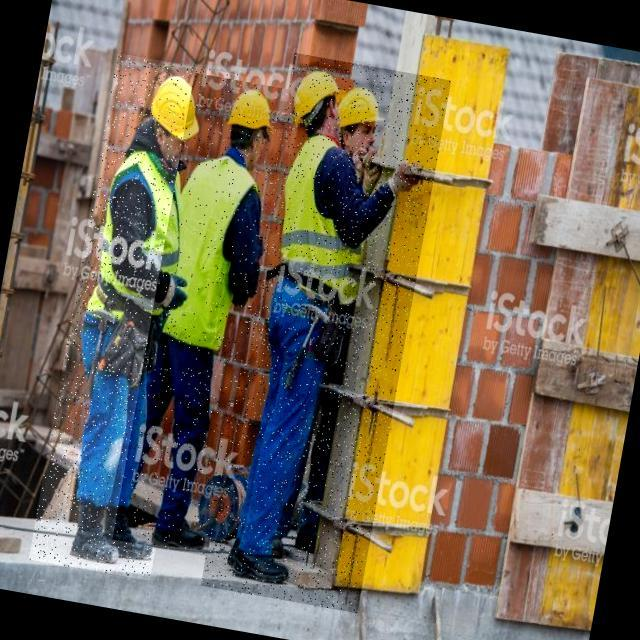Gloves: (153, 269, 194, 318), (387, 163, 429, 201), (354, 155, 385, 197)
Helmet: (147, 73, 212, 146), (292, 66, 343, 129), (228, 90, 283, 146), (337, 84, 390, 137)
Person: (223, 70, 435, 581), (61, 66, 205, 583)
Safety Boot: (69, 500, 127, 564), (102, 508, 159, 565), (225, 541, 294, 586), (155, 507, 215, 554)
Safety Vest: (159, 151, 269, 355), (84, 148, 201, 334), (263, 133, 377, 320)
